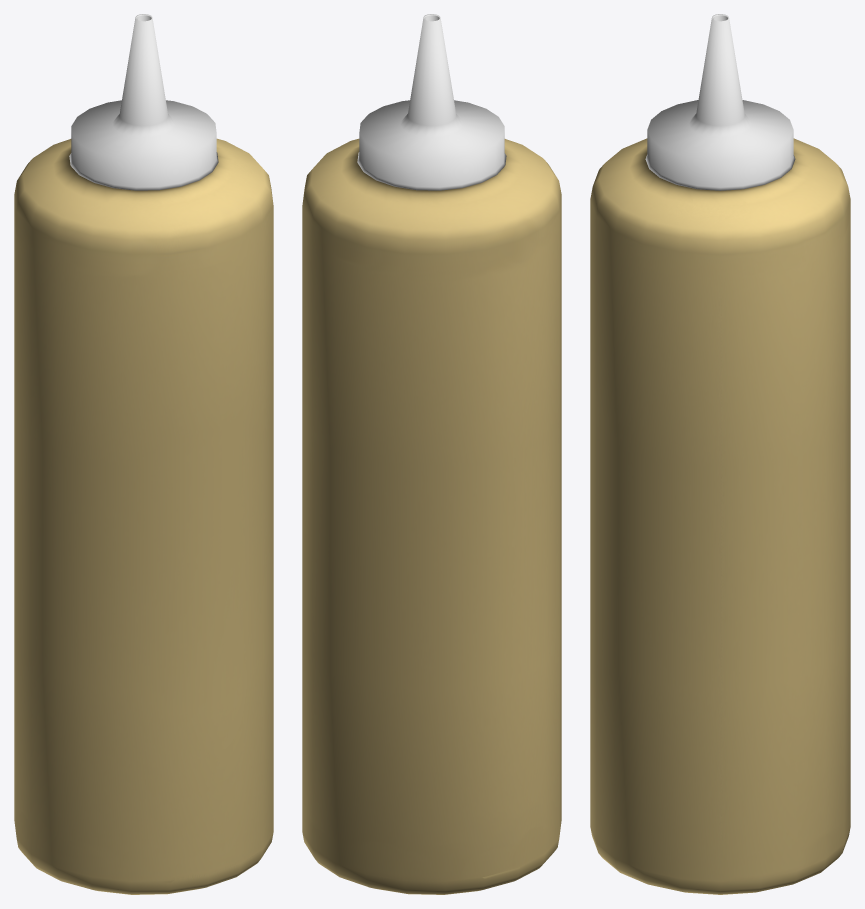
The model's file is Mayo_bottle.fbx.
3 views of the same model, side by side, from view 1: azimuth 30°, elevation 25°; view 2: azimuth 150°, elevation 25°; view 3: azimuth 270°, elevation 25° (orthographic).
Parts seen in each view (by area): view 1: Mayo_bottle; view 2: Mayo_bottle; view 3: Mayo_bottle.
Part boxes in pixels (x1,y1,x2,y2): Mayo_bottle: [14, 14, 273, 894]; Mayo_bottle: [302, 14, 561, 894]; Mayo_bottle: [590, 14, 850, 894].
Bounding box in the file's own units: 8.16 × 28.68 × 8.16.
